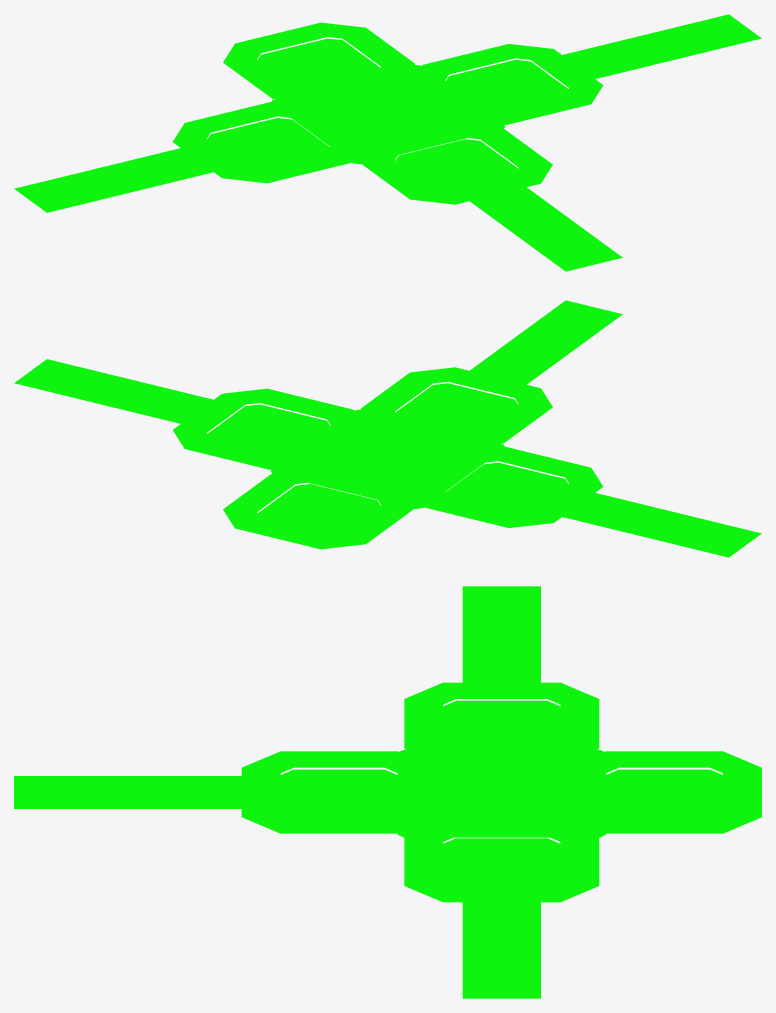
Rendered from s06b_tc3-floor.glb.
3 views of the same model, one above another, from view 1: azimuth 30°, elevation 25°; view 2: azimuth 150°, elevation 25°; view 3: azimuth 270°, elevation 25° (orthographic). The views are drawn at different scales.
Parts seen in each view (by area): view 1: collision_floor-colonly; view 2: collision_floor-colonly; view 3: collision_floor-colonly.
Part boxes in pixels (x1,y1,x2,y2): collision_floor-colonly: (14,14,761,271); collision_floor-colonly: (14,300,761,557); collision_floor-colonly: (14,586,761,998).
Bounding box in the file's own units: 75 × 0.1504 × 57.5.
